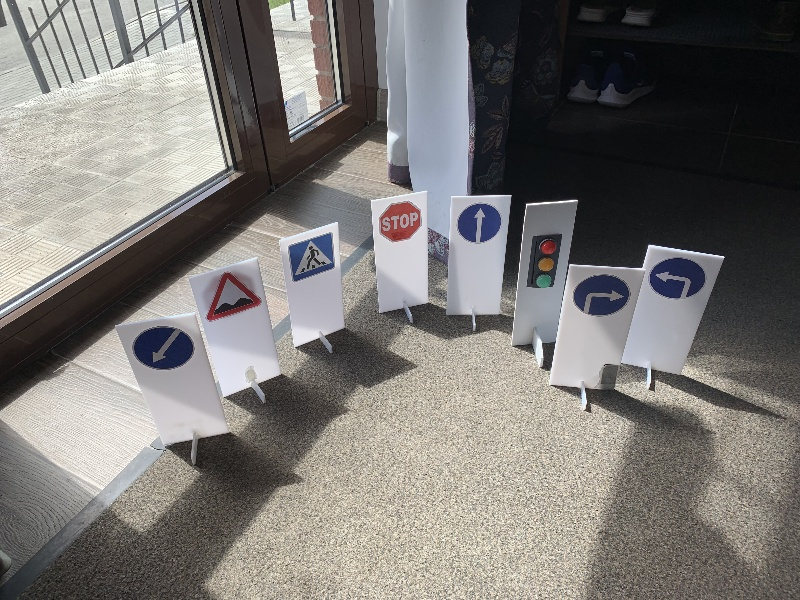Left: (645, 255, 708, 298)
Nerov: (206, 274, 261, 320)
Right: (573, 273, 631, 319)
Stop: (377, 201, 422, 242)
forw: (455, 202, 501, 246)
pesh: (291, 232, 335, 284)
prep: (130, 323, 196, 376)
